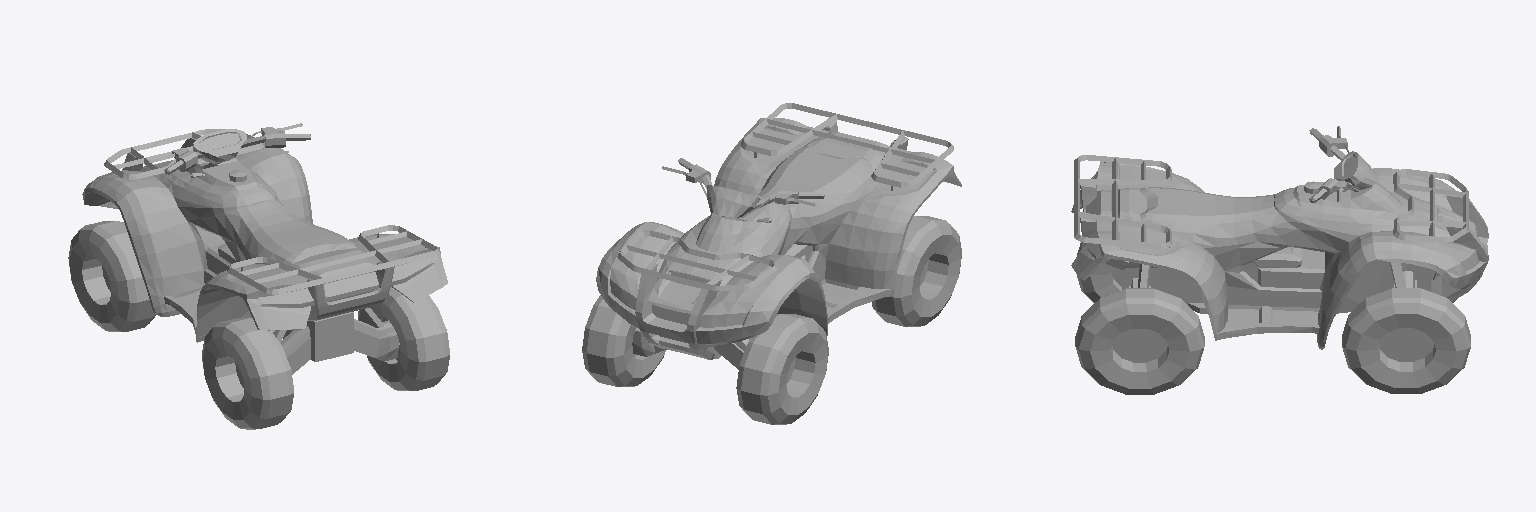
Rendered from ATV.obj.
The picture shows the model from 3 angles: view 1: azimuth 30°, elevation 25°; view 2: azimuth 150°, elevation 25°; view 3: azimuth 270°, elevation 25°; orthographic projection.
Visible parts, largest first — view 1: ATV_ATV_mat_0_ffc604b9_jpg; view 2: ATV_ATV_mat_0_ffc604b9_jpg; view 3: ATV_ATV_mat_0_ffc604b9_jpg.
Boxes of the visible parts, x1=… form: ATV_ATV_mat_0_ffc604b9_jpg: x1=68, y1=123, x2=449, y2=429; ATV_ATV_mat_0_ffc604b9_jpg: x1=582, y1=103, x2=961, y2=424; ATV_ATV_mat_0_ffc604b9_jpg: x1=1071, y1=126, x2=1488, y2=394.
Bounding box in the file's own units: 1.43 × 1.33 × 2.62.